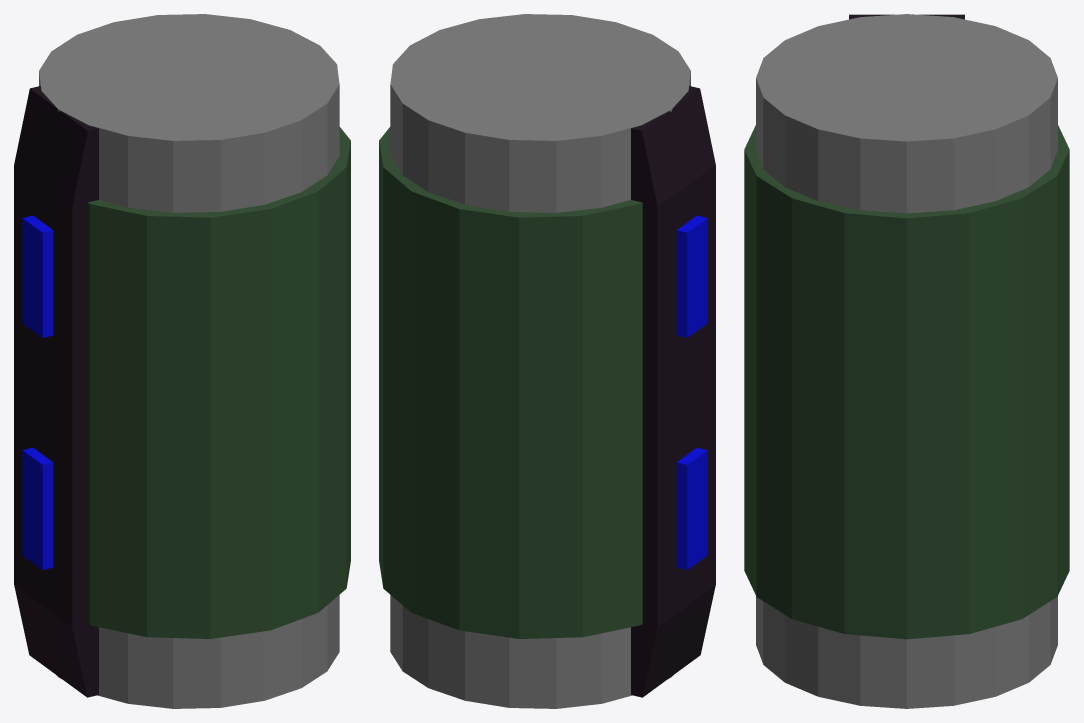
File: FlashGrenade_V_2.fbx
The picture shows the model from 3 angles, left to right: view 1: azimuth 30°, elevation 25°; view 2: azimuth 150°, elevation 25°; view 3: azimuth 270°, elevation 25°; orthographic projection.
Parts seen in each view (by area): view 1: Cylinder, Cylinder.001, Cube.001, Cylinder.002, Cube, Cube.002; view 2: Cylinder, Cylinder.001, Cube.001, Cylinder.002, Cube, Cube.002; view 3: Cylinder, Cylinder.001, Cylinder.002.
Part boxes in pixels (<box>): Cylinder: <box>87,127,350,638</box>; Cylinder.001: <box>39,14,339,212</box>; Cube.001: <box>14,86,98,697</box>; Cylinder.002: <box>56,595,339,708</box>; Cube: <box>22,215,53,337</box>; Cube.002: <box>22,447,53,570</box>; Cylinder: <box>379,127,642,638</box>; Cylinder.001: <box>390,14,690,212</box>; Cube.001: <box>631,86,715,697</box>; Cylinder.002: <box>390,595,673,708</box>; Cube: <box>676,215,707,337</box>; Cube.002: <box>676,447,707,570</box>; Cylinder: <box>744,125,1069,639</box>; Cylinder.001: <box>756,14,1057,213</box>; Cylinder.002: <box>756,596,1057,708</box>.
Bounding box in the file's own units: 29.59 × 53.92 × 28.04.
